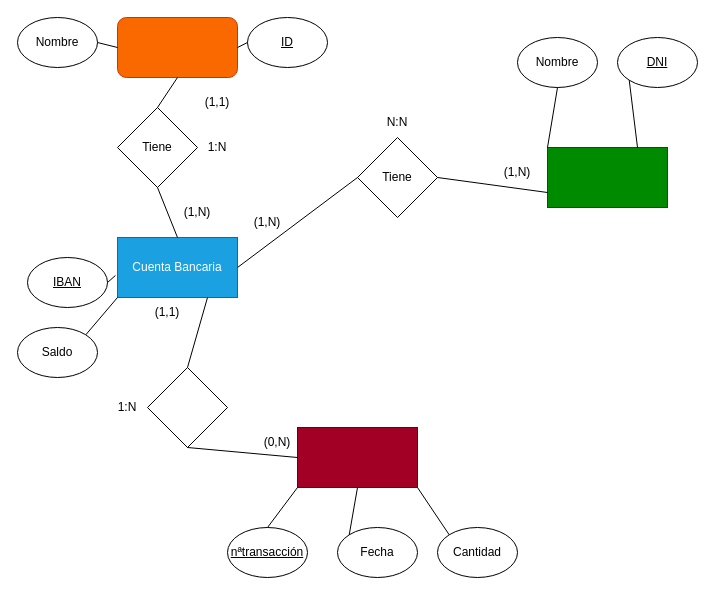
The diagram is 715 pixels wide and 595 high, and some of its shapes have lost their labels. The shapes that lost their labels are listed below. From the top down, each one's centre as x and y in pixels, then its label:
the point at 177,47: SUCURSAL
the point at 607,177: Cliente
the point at 187,407: Accede
the point at 357,457: Transacción
